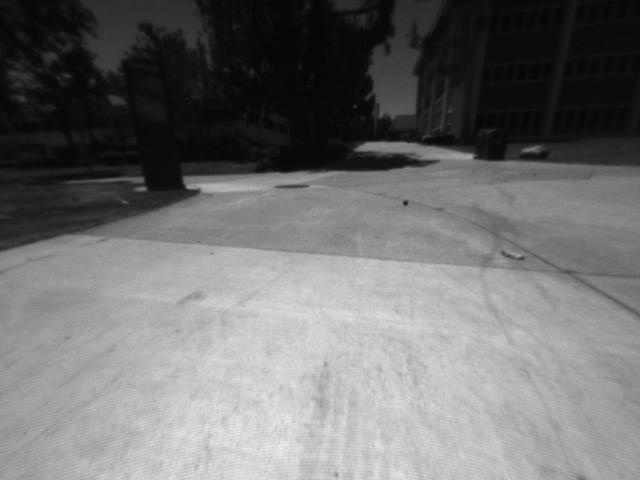dogtoy: (395, 194, 417, 211)
